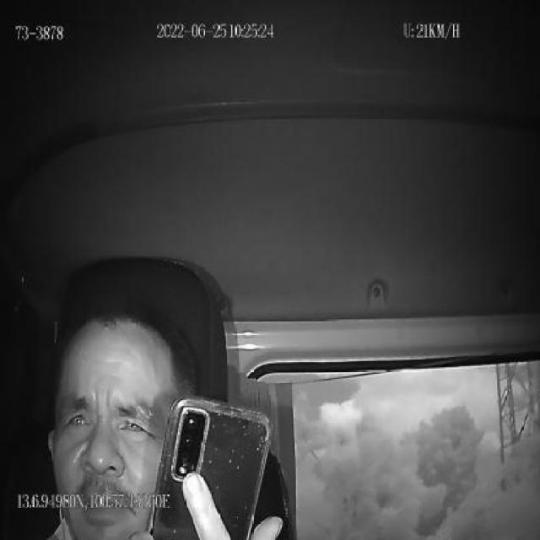phone: (147, 394, 272, 540)
